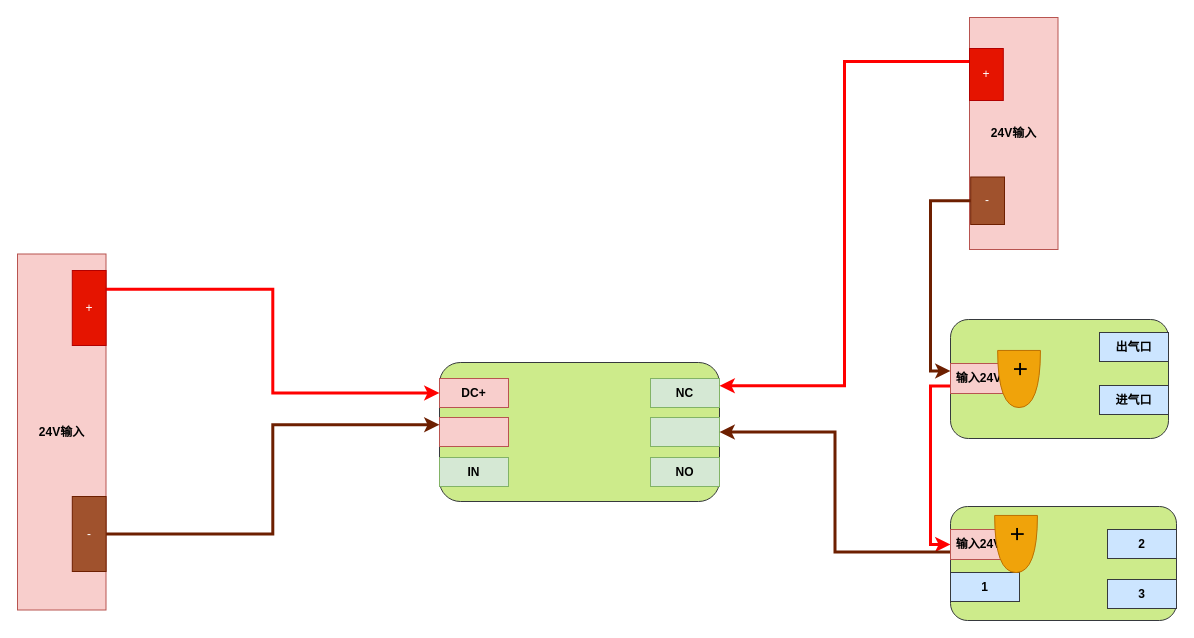
Image size: 1194x638. Some labels were removed from this diagram. Each missing label, with the box of its shape:
COM: (650, 416, 720, 446)
DC-: (438, 416, 508, 446)
气泵: (950, 318, 1168, 438)
电磁阀: (950, 506, 1176, 620)
继电器: (438, 362, 720, 502)
